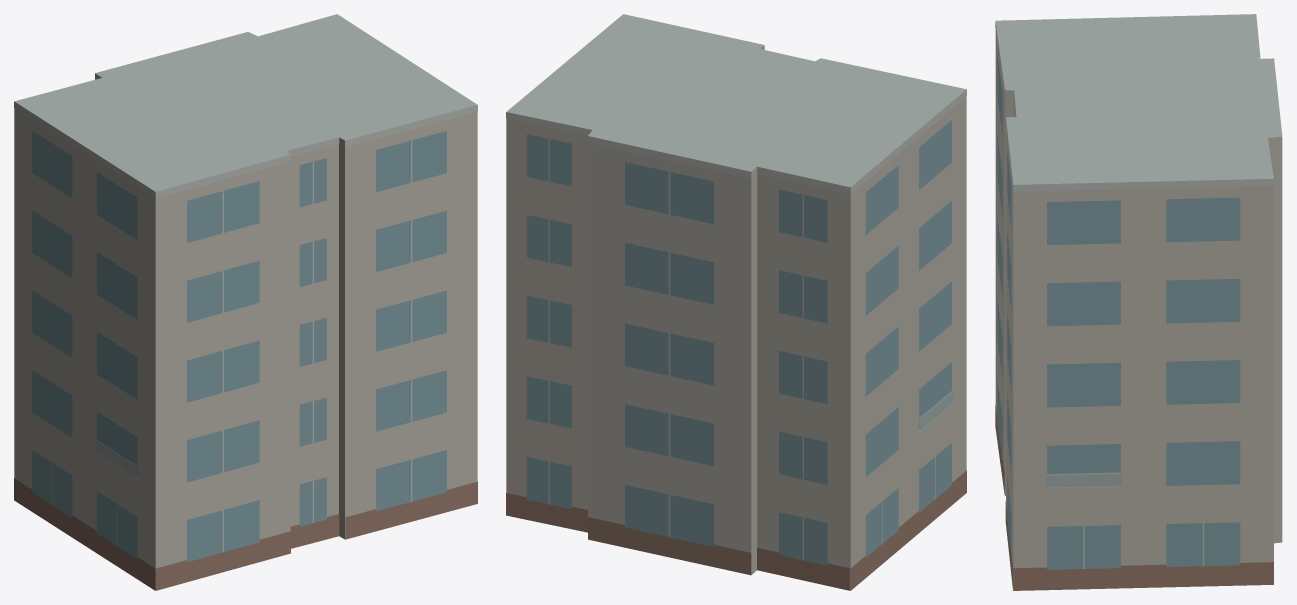
The model's file is survey-upis-32620009.glb.
3 renders of one model, left to right at view 1: azimuth 30°, elevation 25°; view 2: azimuth 150°, elevation 25°; view 3: azimuth 270°, elevation 25°, orthographic.
Parts seen in each view (by area): view 1: survey-upis-32620009.tmp; view 2: survey-upis-32620009.tmp; view 3: survey-upis-32620009.tmp.
Boxes of the visible parts, x1,y1,x2,y2 form: survey-upis-32620009.tmp: [14, 14, 477, 590]; survey-upis-32620009.tmp: [506, 14, 966, 590]; survey-upis-32620009.tmp: [995, 14, 1282, 590].
Size of the model in its own units: 12.96 by 14.35 by 9.2.
